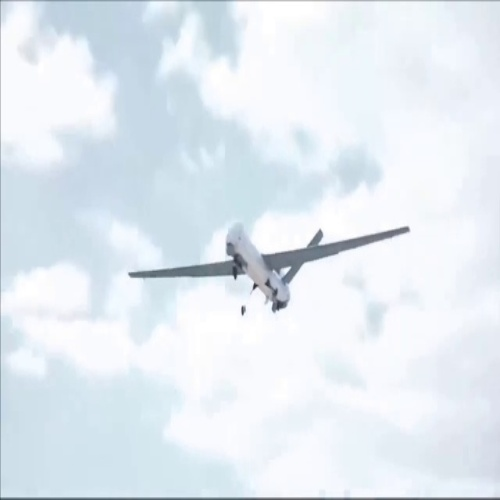uav: (129, 222, 411, 317)
